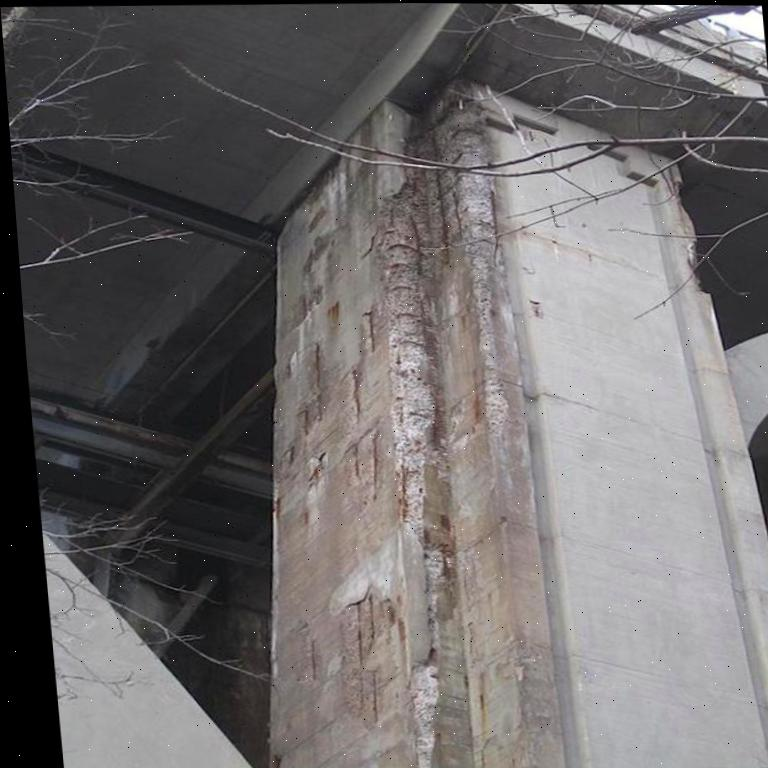spalling: (278, 76, 510, 768)
